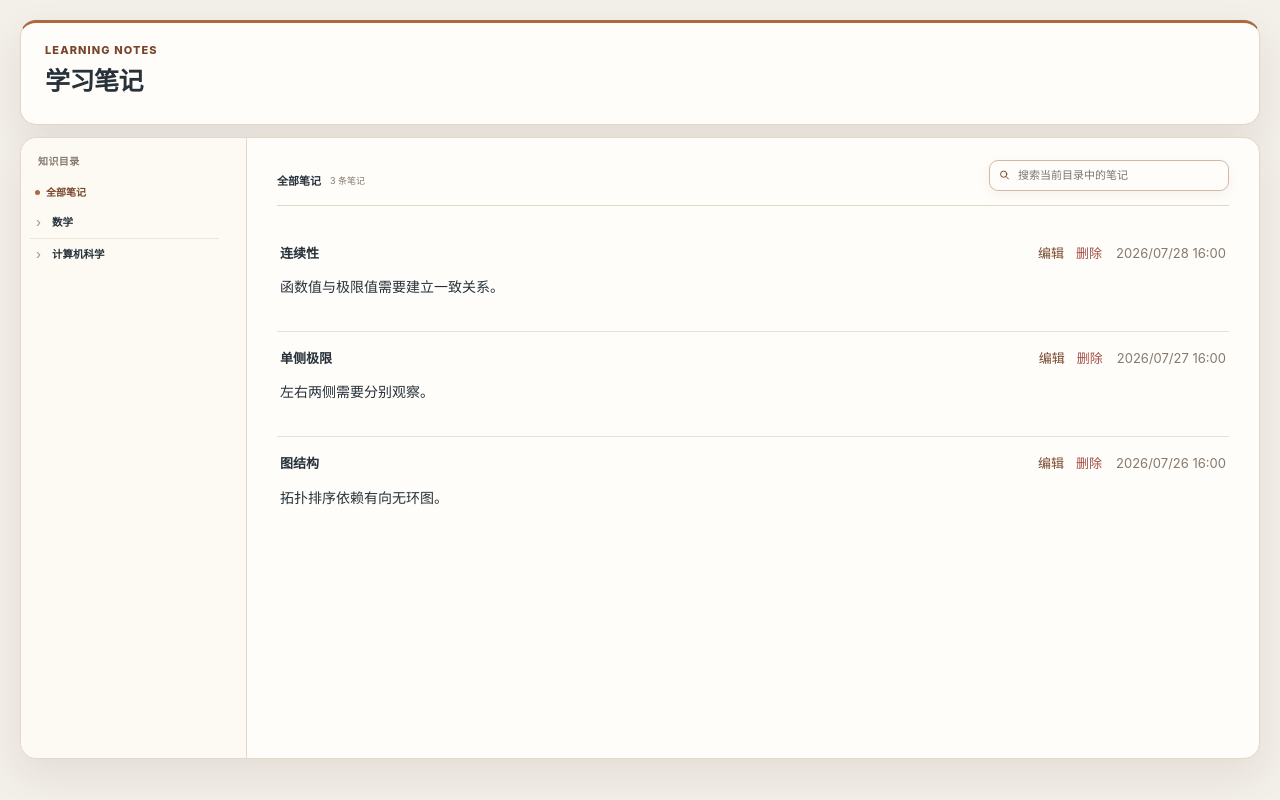
Test: NotesPage › searches within the selected directory and can expand to all notes
Click the button "全部笔记": click(124, 192) [30, 180, 219, 205]
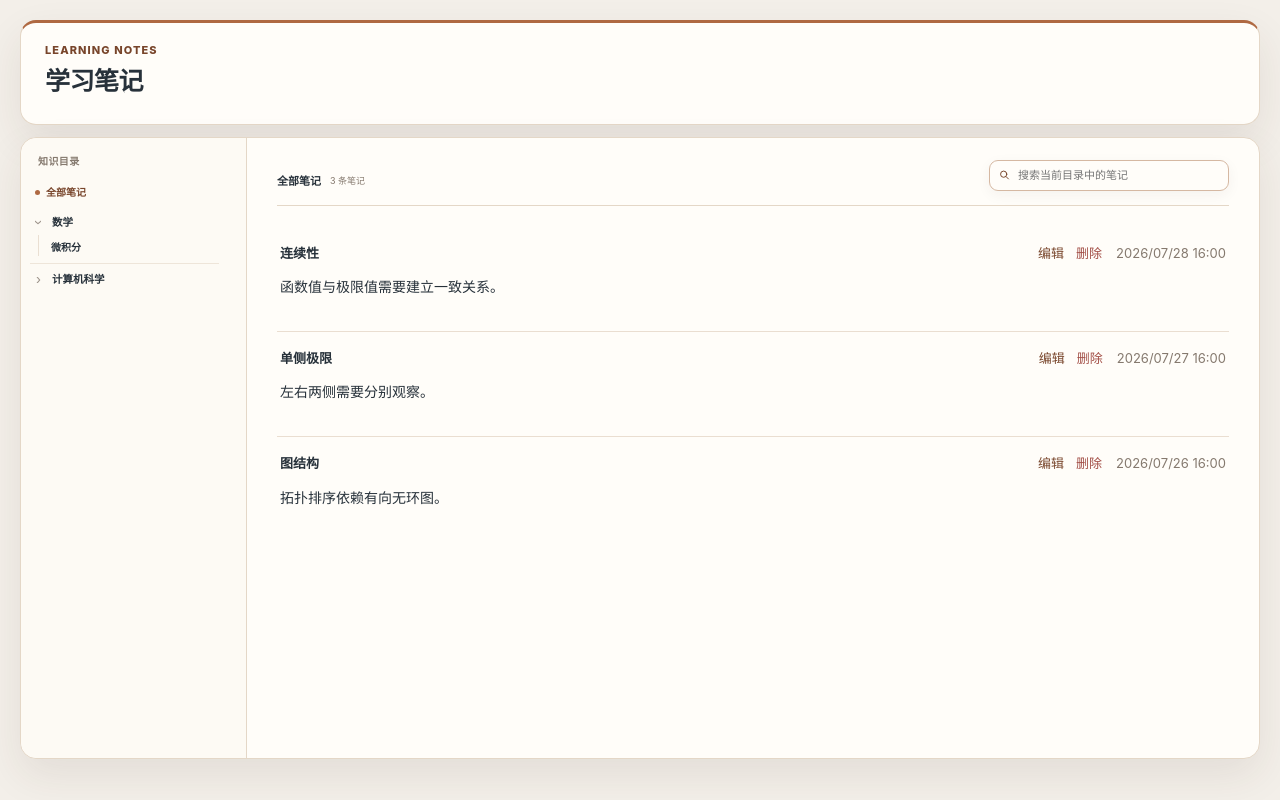
In the search field named "搜索当前目录笔记": (1109, 175) [989, 160, 1229, 190], type "拓扑"
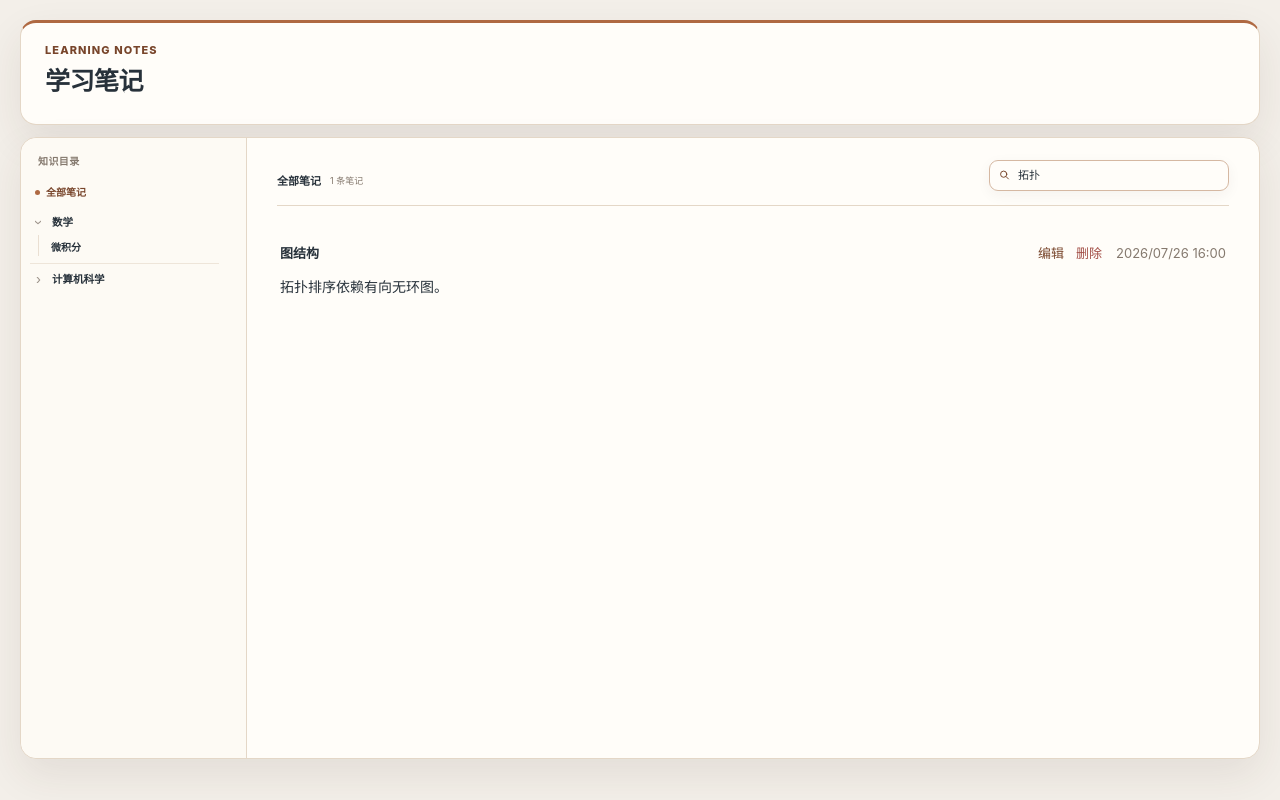
Expected: the text "拓扑排序依赖有向无环图。" is shown, [280, 278, 448, 295]
Now the text "左右两侧需要分别观察。" is gone
Now the text "1 条笔记" is shown, box [330, 174, 363, 189]
